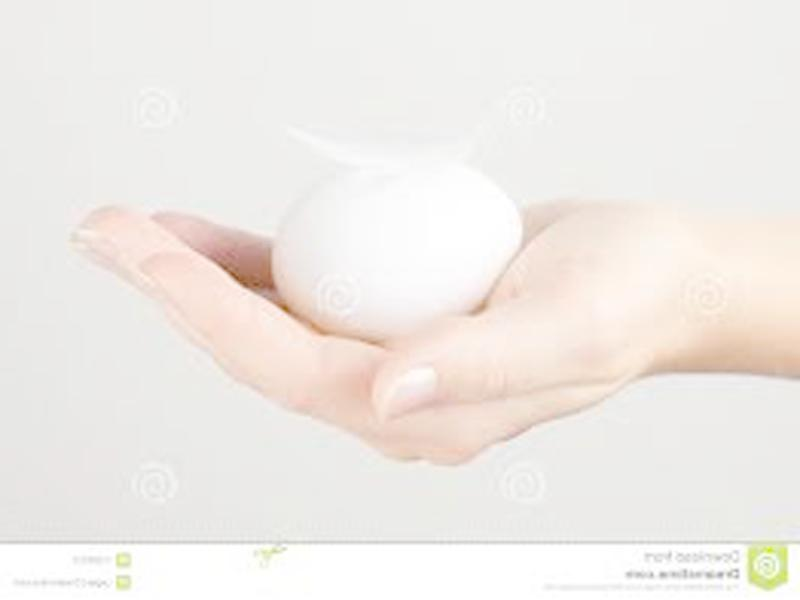Eggs: (268, 165, 524, 339)
